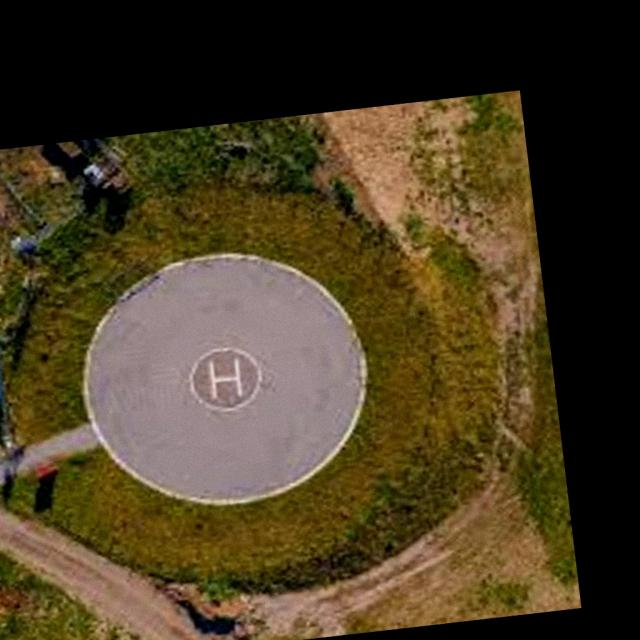helipad: (184, 344, 264, 414)
